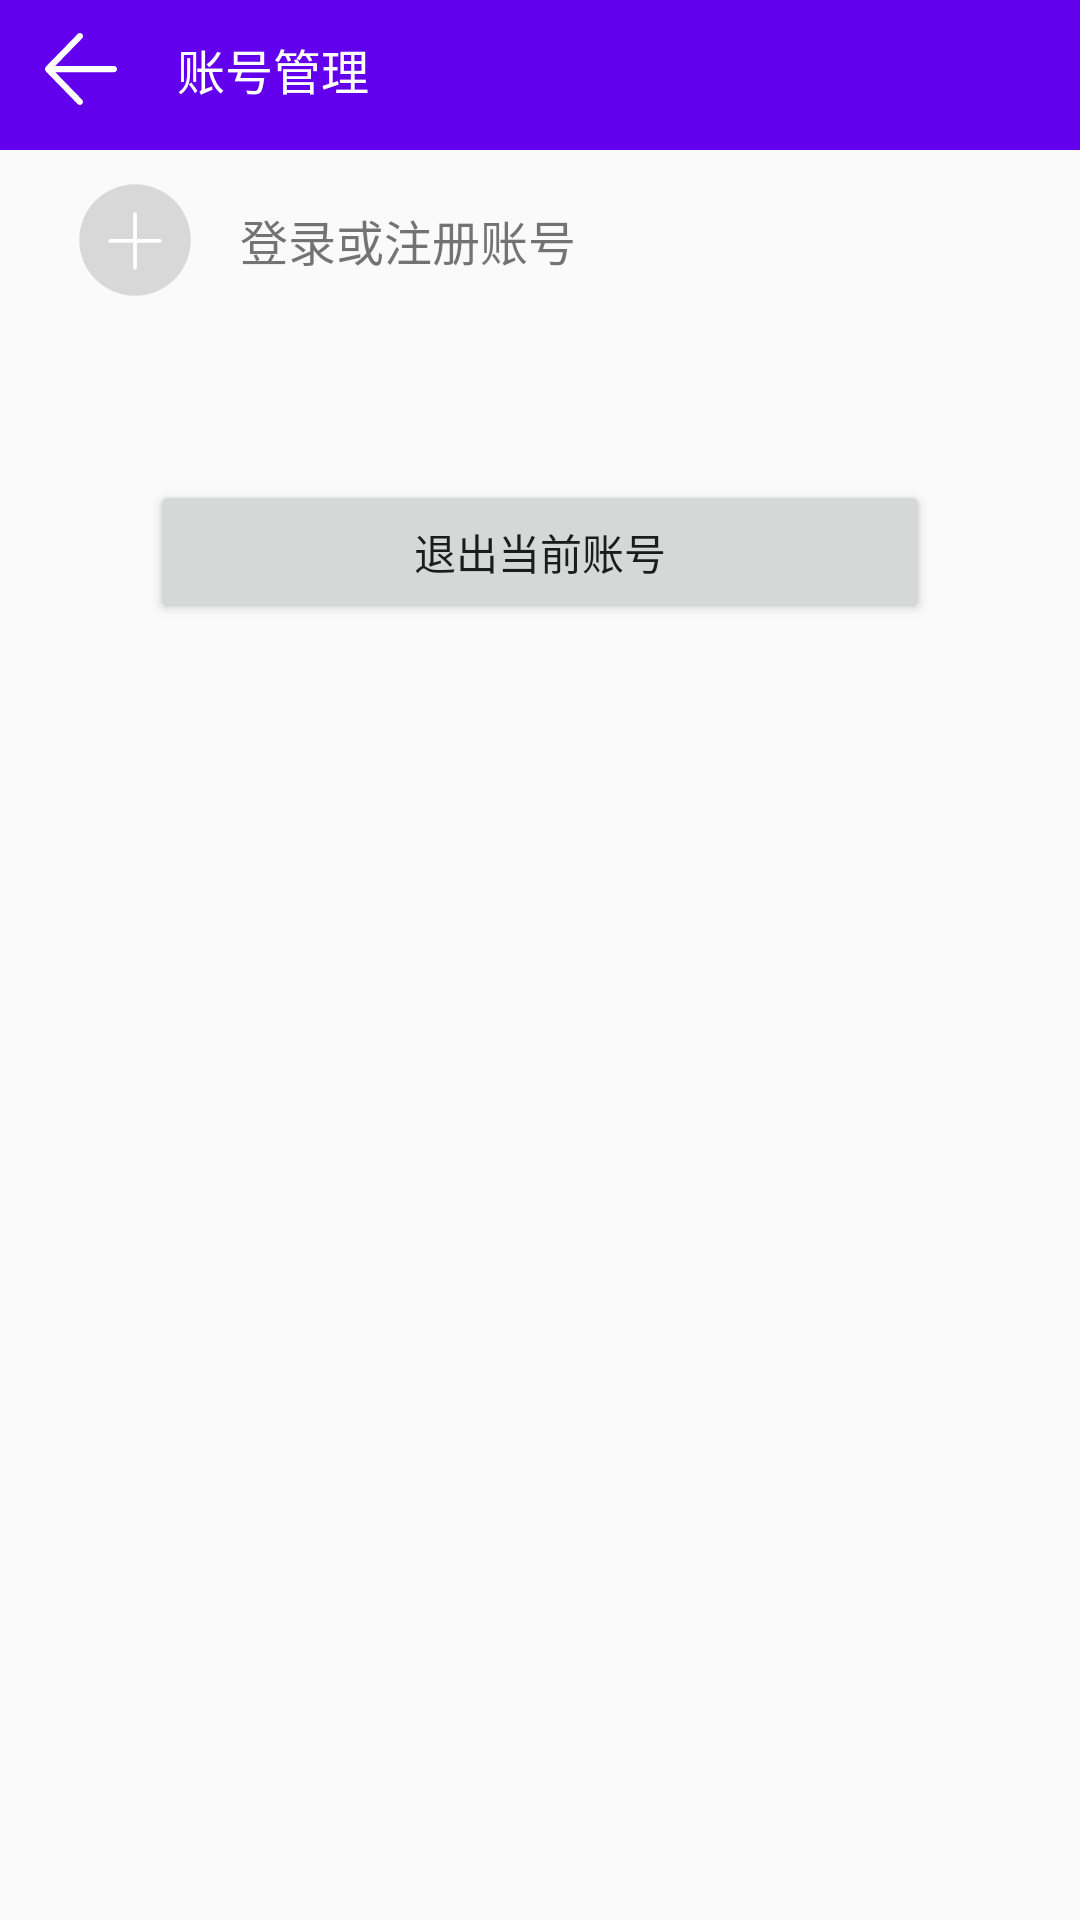

Icon click points for this 1080*1920 phone screenshot, format (x=x, y=y):
back: (x=81, y=69)
